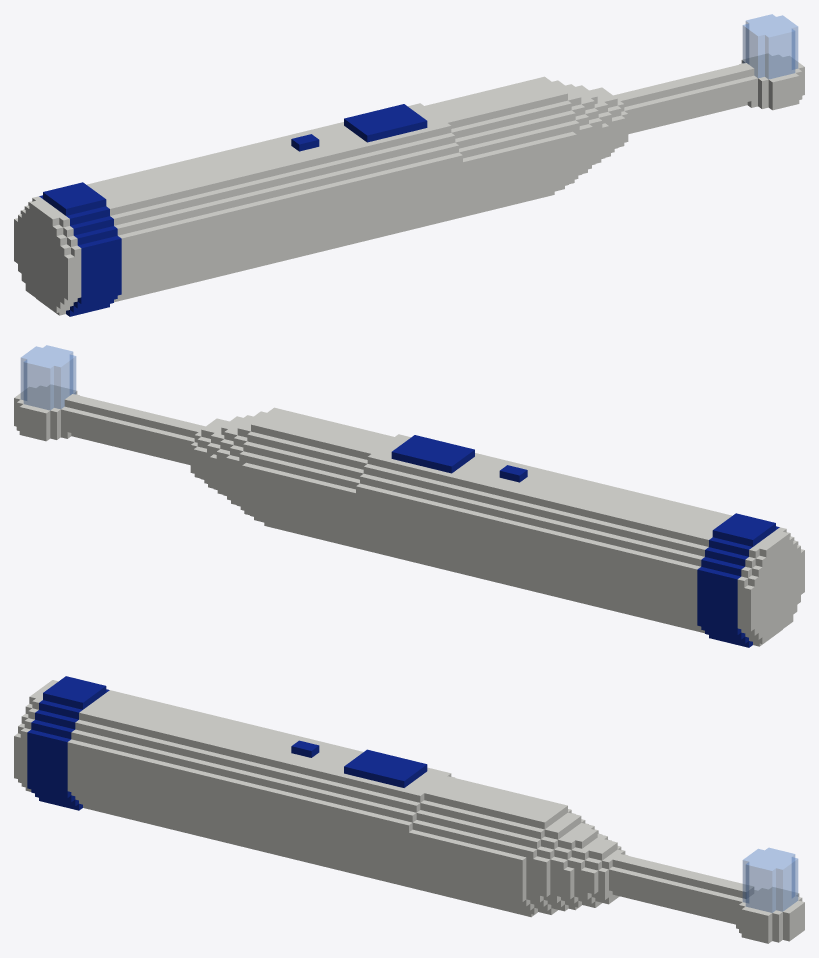
Rendered from toothbrush_electric.glb.
3 views of the same model, one above another, from view 1: azimuth 30°, elevation 25°; view 2: azimuth 150°, elevation 25°; view 3: azimuth 330°, elevation 25° (orthographic).
Visible parts, largest first — view 1: toothbrush_electric:compound; view 2: toothbrush_electric:compound; view 3: toothbrush_electric:compound.
Part boxes in pixels (x1,y1,x2,y2): toothbrush_electric:compound: (14,14,804,316); toothbrush_electric:compound: (14,345,804,647); toothbrush_electric:compound: (14,676,804,943).
Bounding box in the file's own units: 0.226 × 0.03 × 0.028.
